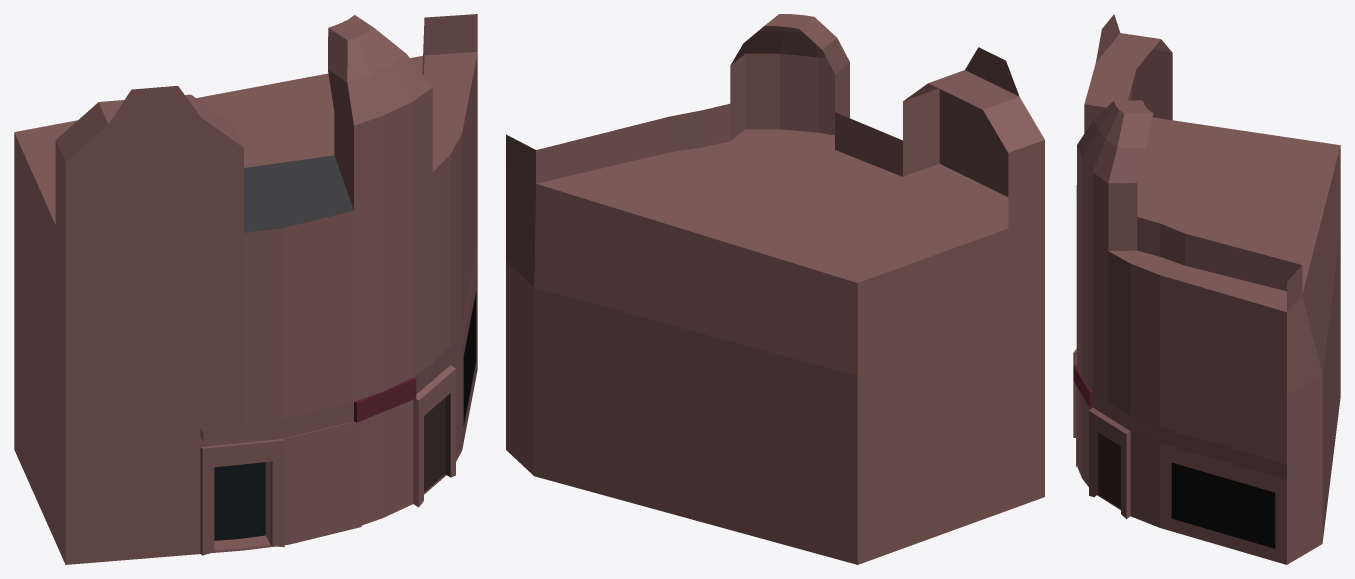
File: Costa Coffee.fbx
3 renders of one model, left to right at view 1: azimuth 30°, elevation 25°; view 2: azimuth 150°, elevation 25°; view 3: azimuth 270°, elevation 25°, orthographic. The views are drawn at different scales.
Parts seen in each view (by area): view 1: element.070 - Costa Coffee; view 2: element.070 - Costa Coffee; view 3: element.070 - Costa Coffee.
Boxes of the visible parts, x1=… form: element.070 - Costa Coffee: x1=14, y1=14, x2=477, y2=564; element.070 - Costa Coffee: x1=506, y1=14, x2=1044, y2=564; element.070 - Costa Coffee: x1=1073, y1=14, x2=1340, y2=564.
Size of the model in its own units: 3271 by 2899 by 1865.
